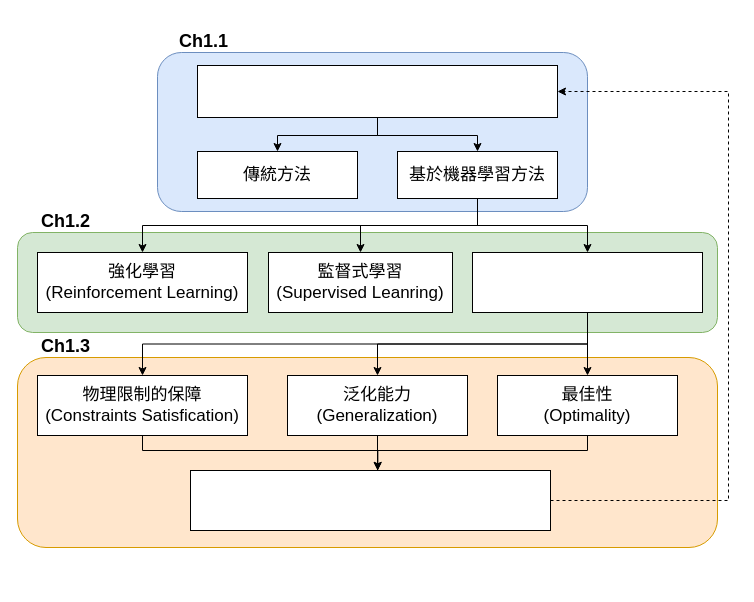
This 754x602 diagram has some shape labels left out. The centre of each missing label's shape, as x and y in pixels:
整體目標： 機器人依據任務需求與環境進行自主決策: (377,91)
本研究計畫： 發展同時考量物理知識與資料集的 機器人決策: (370,500)
深度生成模型 - 擴散模型 (Diffusion Model): (587,282)
